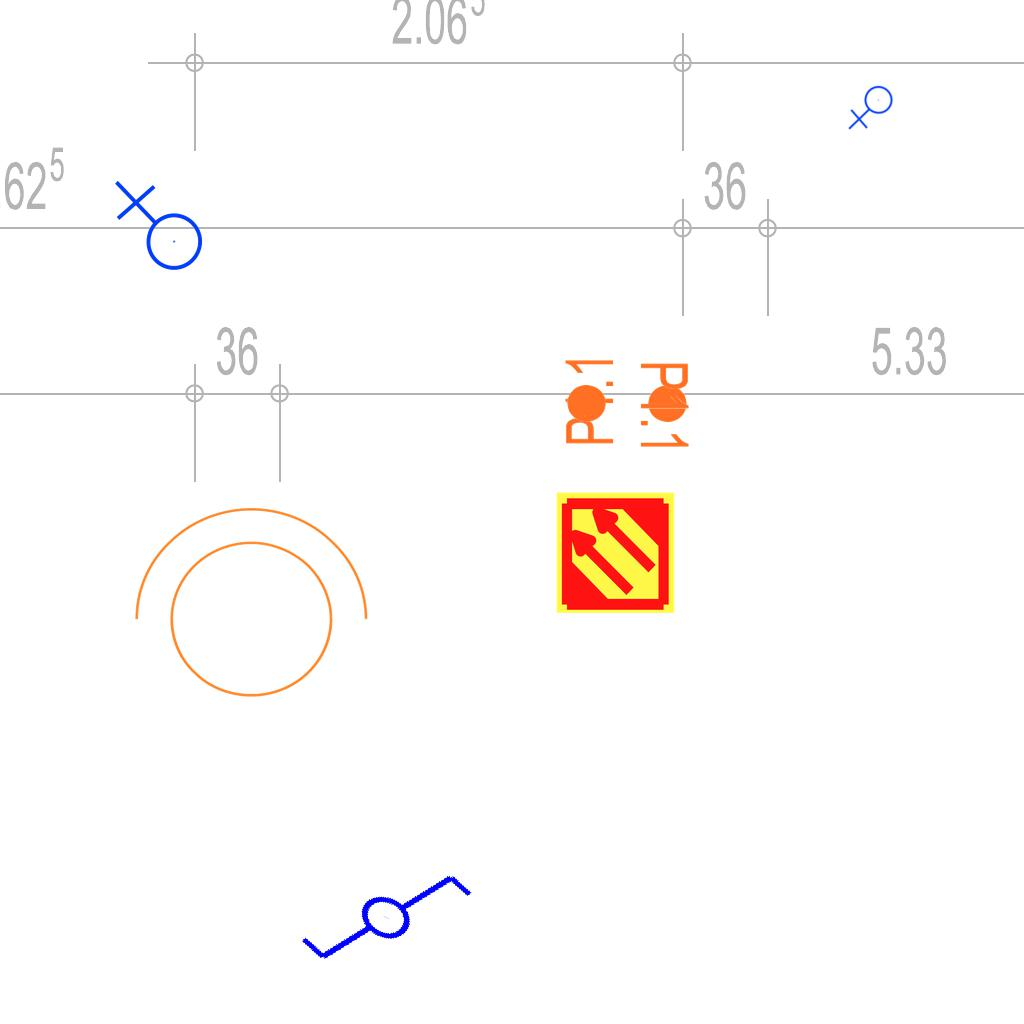ASR_Ansaugrauchmelder: (553, 490, 678, 615)
Downlight_LED_Einbauleuchten_Flur: (562, 354, 690, 447), (564, 360, 692, 453)
Elektroanschluss_allgemein_230V_Geraeteanschlussdose_230V: (110, 180, 204, 279), (848, 85, 897, 132)
Scheinwerfer_fuer_Alarmbeleuchtung: (113, 497, 377, 722)
Wechselschalter: (277, 812, 482, 1012)
